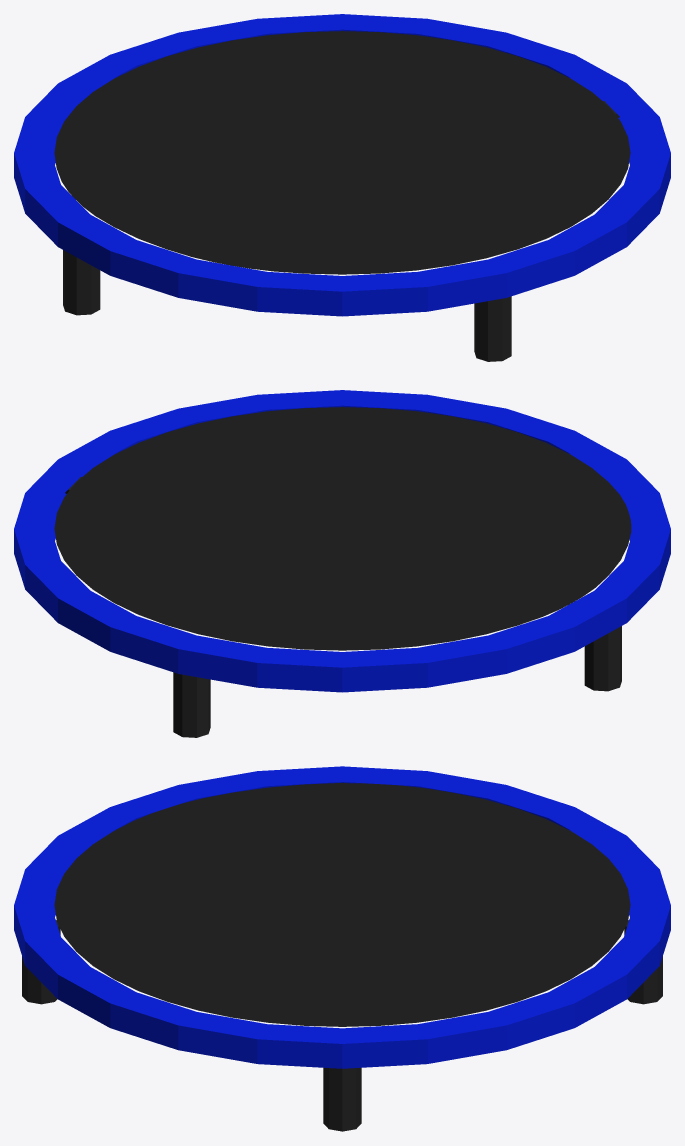
File: trampoline.glb
The picture shows the model from 3 angles, top to bottom: view 1: azimuth 30°, elevation 25°; view 2: azimuth 150°, elevation 25°; view 3: azimuth 270°, elevation 25°; orthographic projection.
Visible parts, largest first — view 1: BouncyPart, PlasticPart, Leg.002, Leg; view 2: BouncyPart, PlasticPart, Leg.003, Leg; view 3: BouncyPart, PlasticPart, Leg.001, Leg.002, Leg.003.
Boxes of the visible parts, x1,y1,x2,y2 form: BouncyPart: [54, 31, 630, 274]; PlasticPart: [14, 14, 670, 316]; Leg.002: [474, 296, 511, 361]; Leg: [63, 250, 100, 315]; BouncyPart: [54, 407, 631, 650]; PlasticPart: [14, 390, 670, 692]; Leg.003: [173, 672, 210, 737]; Leg: [584, 626, 621, 691]; BouncyPart: [54, 783, 630, 1026]; PlasticPart: [14, 766, 670, 1068]; Leg.001: [323, 1067, 361, 1131]; Leg.002: [22, 920, 60, 1004]; Leg.003: [624, 920, 662, 1004].
Size of the model in its own units: 6 by 0.9172 by 6.
